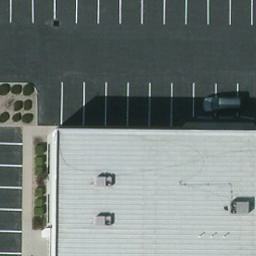car: (202, 98, 242, 113)
